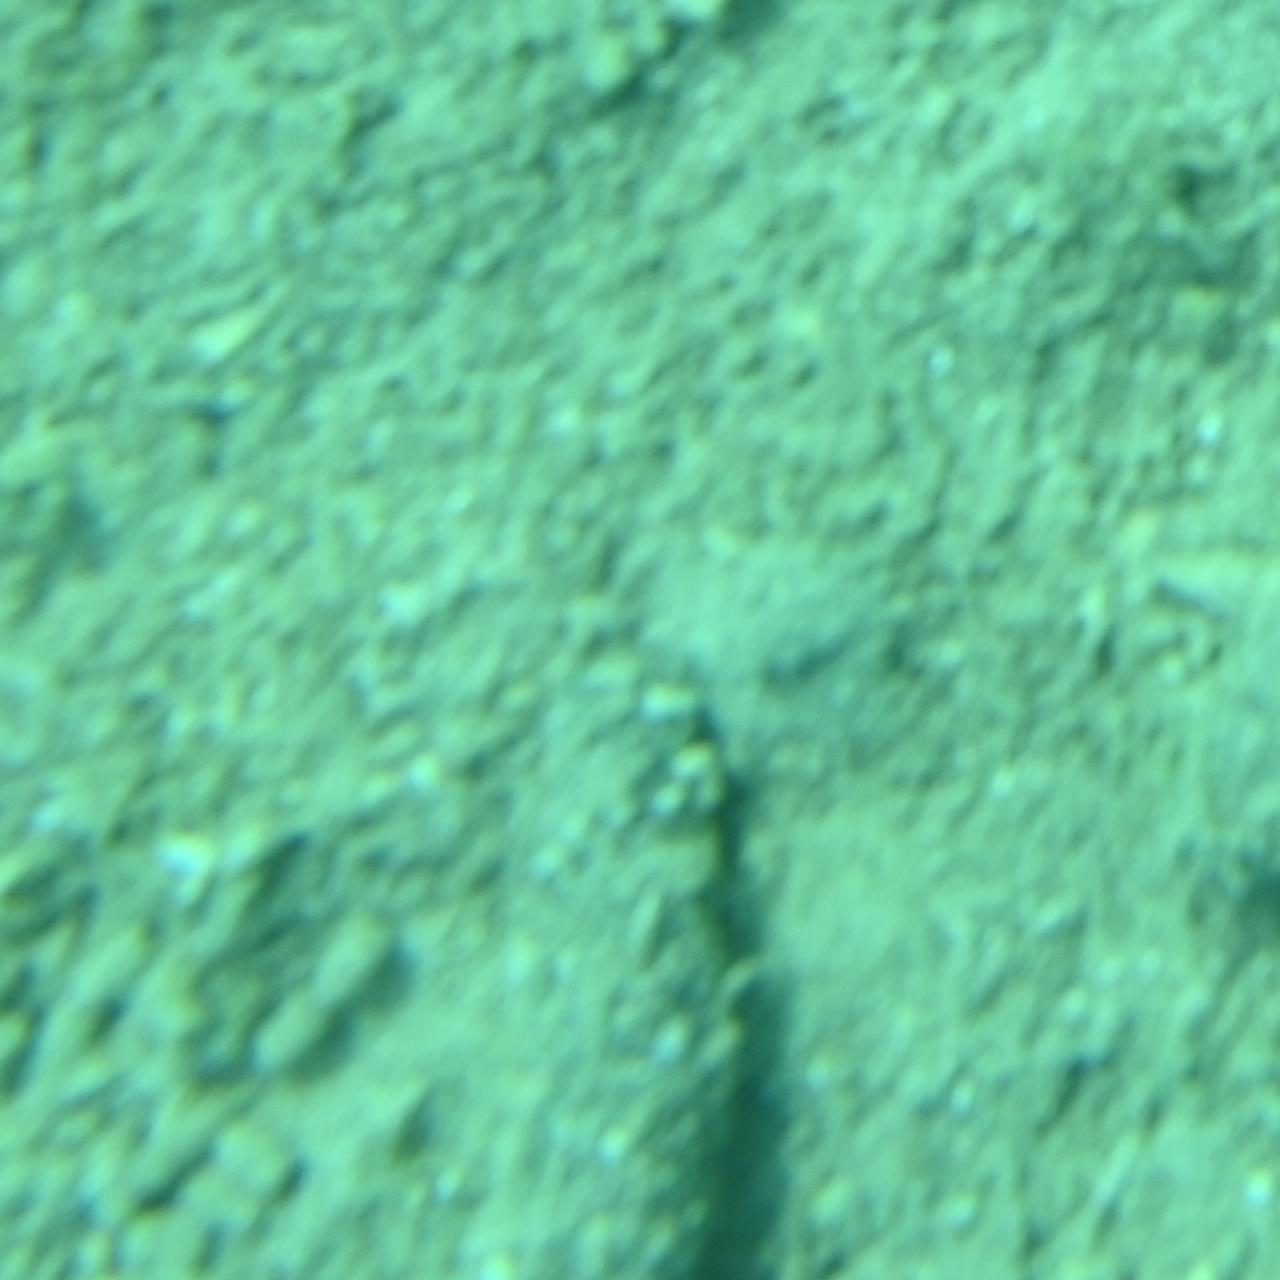Holothuria tubulosa: (496, 657, 784, 1279)
